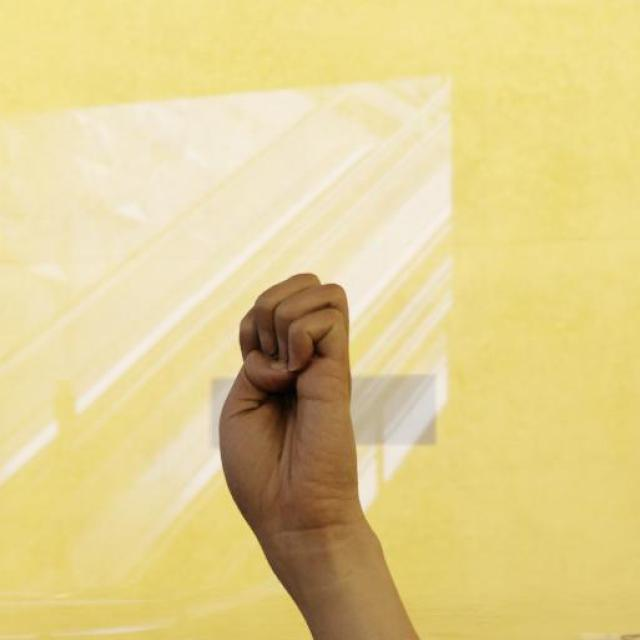E: (216, 268, 365, 526)
